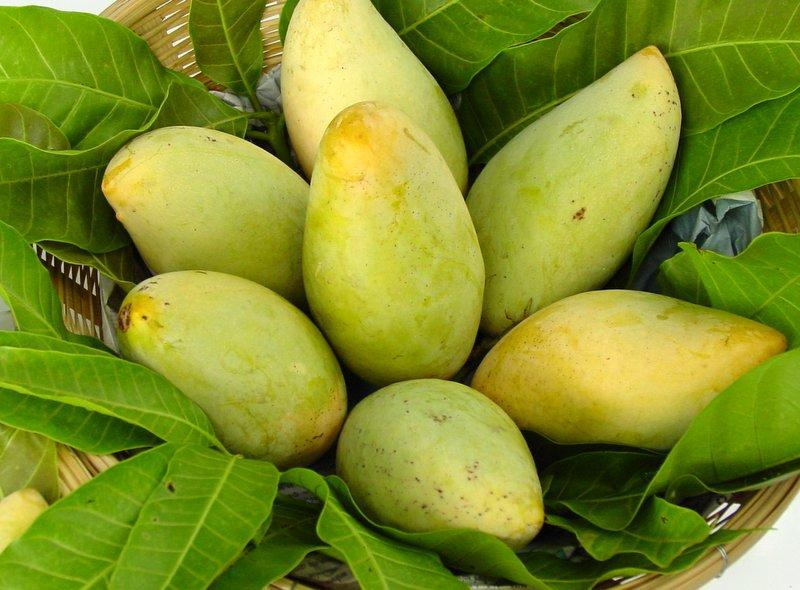mango: (299, 102, 491, 384), (467, 46, 677, 289), (484, 287, 786, 454), (109, 266, 347, 458), (337, 370, 546, 560), (91, 120, 304, 282)
